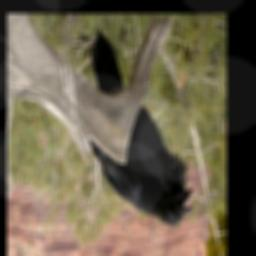Crow: (88, 30, 196, 227)
